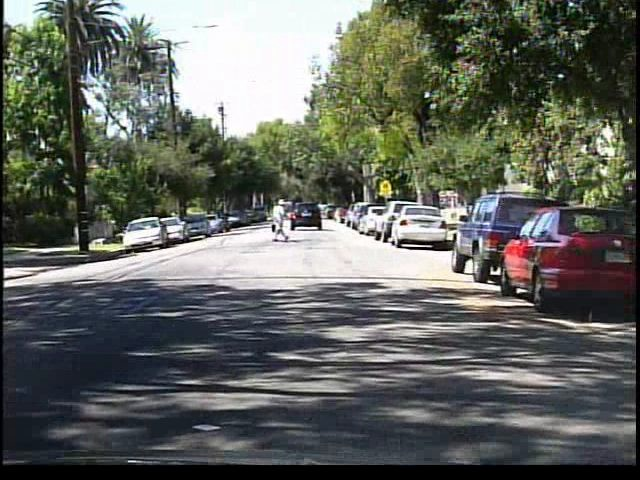person: (267, 195, 294, 244)
